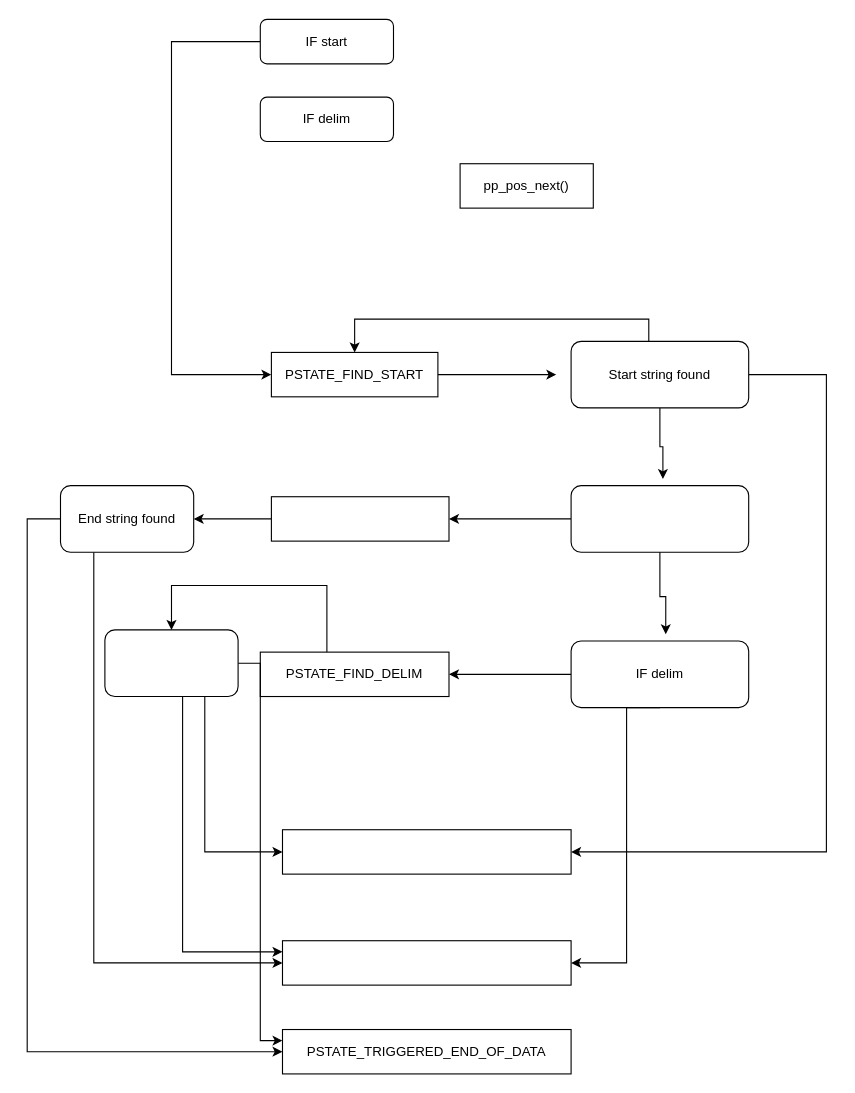
The diagram is 855 pixels wide and 1093 high, and some of its shapes have lost their labels. Each missing label, with the centre of its shape:
"Delim char found" belongs at pixel 171 663.
"IF end" belongs at pixel 659 518.
"PSTATE_END_OF_DATA" belongs at pixel 426 851.
"PSTATE_FIND_END" belongs at pixel 359 518.
"PSTATE_FINISHED_SUCCESS" belongs at pixel 426 962.
